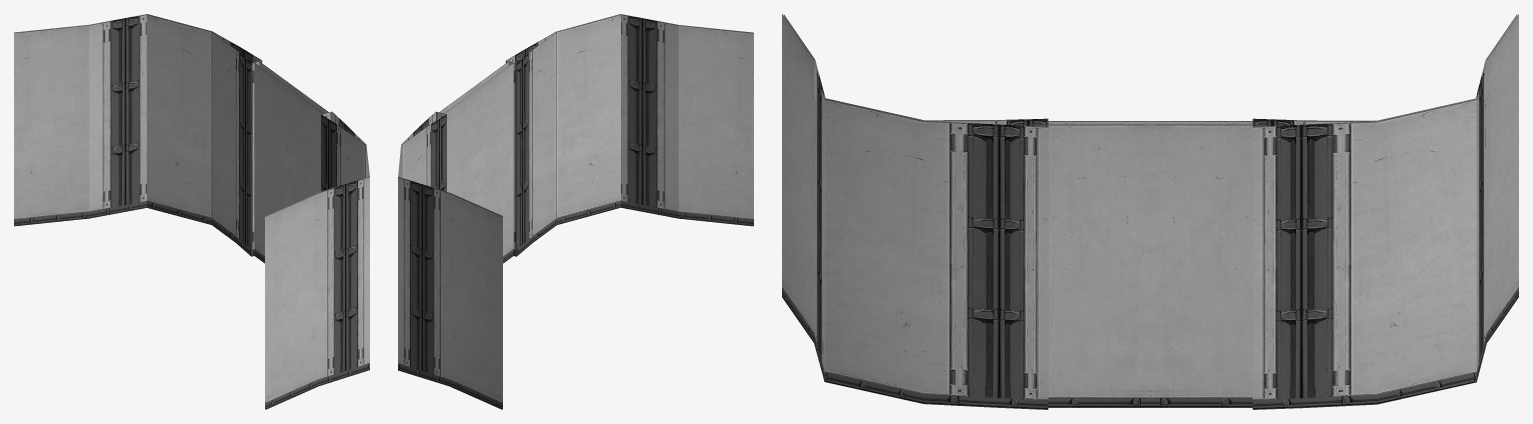
Rendered from Pre_Elevator_entbackc.fbx.
3 views of the same model, side by side, from view 1: azimuth 30°, elevation 25°; view 2: azimuth 150°, elevation 25°; view 3: azimuth 270°, elevation 25° (orthographic). The views are drawn at different scales.
Parts seen in each view (by area): view 1: Pre_Elevator_entbackc; view 2: Pre_Elevator_entbackc; view 3: Pre_Elevator_entbackc.
Boxes of the visible parts, x1=… form: Pre_Elevator_entbackc: x1=14, y1=14, x2=369, y2=409; Pre_Elevator_entbackc: x1=398, y1=14, x2=753, y2=409; Pre_Elevator_entbackc: x1=782, y1=14, x2=1518, y2=409.
Size of the model in its own units: 341 by 401 by 943.
Materials: 1 (1 with a texture image).
